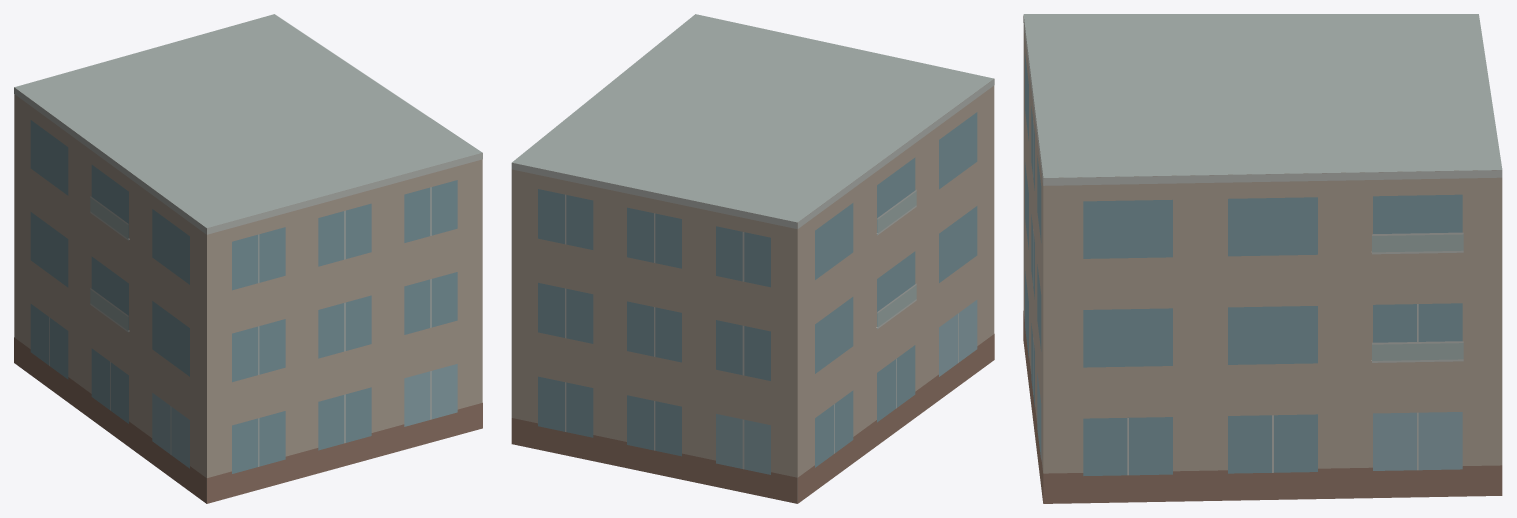
Rendered from survey-upis-32951526.glb.
The picture shows the model from 3 angles, left to right: view 1: azimuth 30°, elevation 25°; view 2: azimuth 150°, elevation 25°; view 3: azimuth 270°, elevation 25°; orthographic projection. The views are drawn at different scales.
Parts seen in each view (by area): view 1: survey-upis-32951526.tmp; view 2: survey-upis-32951526.tmp; view 3: survey-upis-32951526.tmp.
Boxes of the visible parts, box(x1,y1,x2,y2) form: survey-upis-32951526.tmp: box(14, 14, 482, 503); survey-upis-32951526.tmp: box(511, 14, 994, 503); survey-upis-32951526.tmp: box(1023, 14, 1502, 503).
Bounding box in the file's own units: 11.06 × 10.2 × 13.6.
